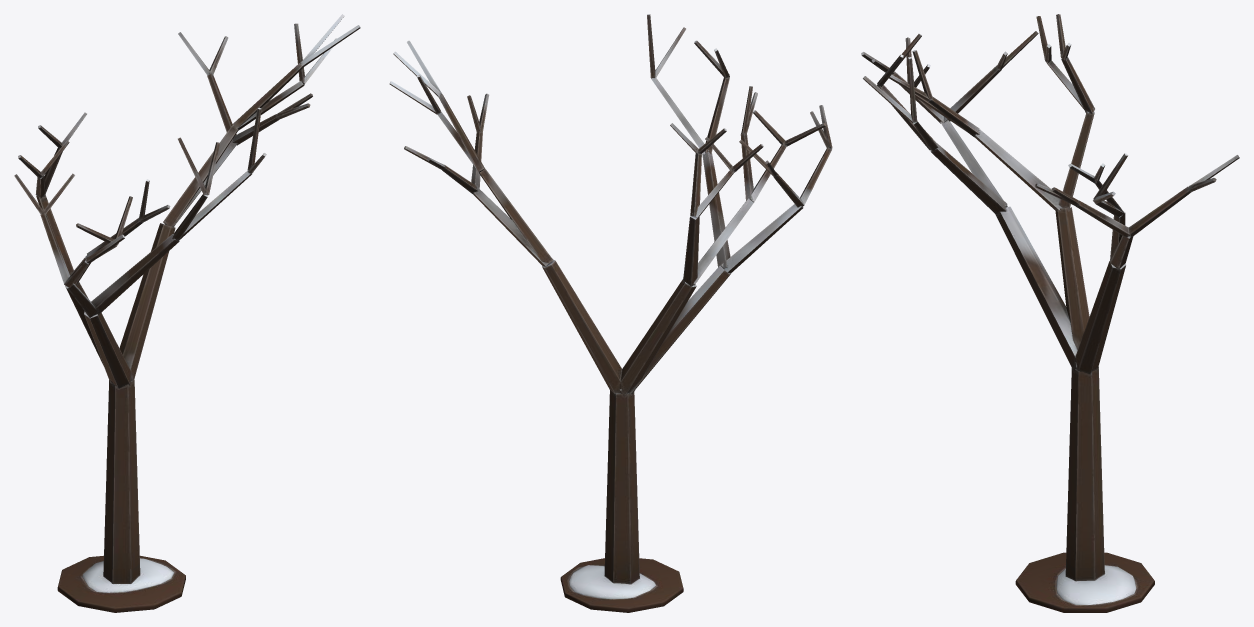
Rendered from tree_bare.glb.
The picture shows the model from 3 angles, left to right: view 1: azimuth 30°, elevation 25°; view 2: azimuth 150°, elevation 25°; view 3: azimuth 270°, elevation 25°; orthographic projection. The views are drawn at different scales.
Parts seen in each view (by area): view 1: tree_bare; view 2: tree_bare; view 3: tree_bare.
Boxes of the visible parts, x1,y1,x2,y2 form: tree_bare: (14, 14, 360, 612); tree_bare: (389, 14, 832, 612); tree_bare: (861, 14, 1239, 612).
Size of the model in its own units: 4.47 by 6.18 by 3.81.
Materials: 1 (1 with a texture image).
